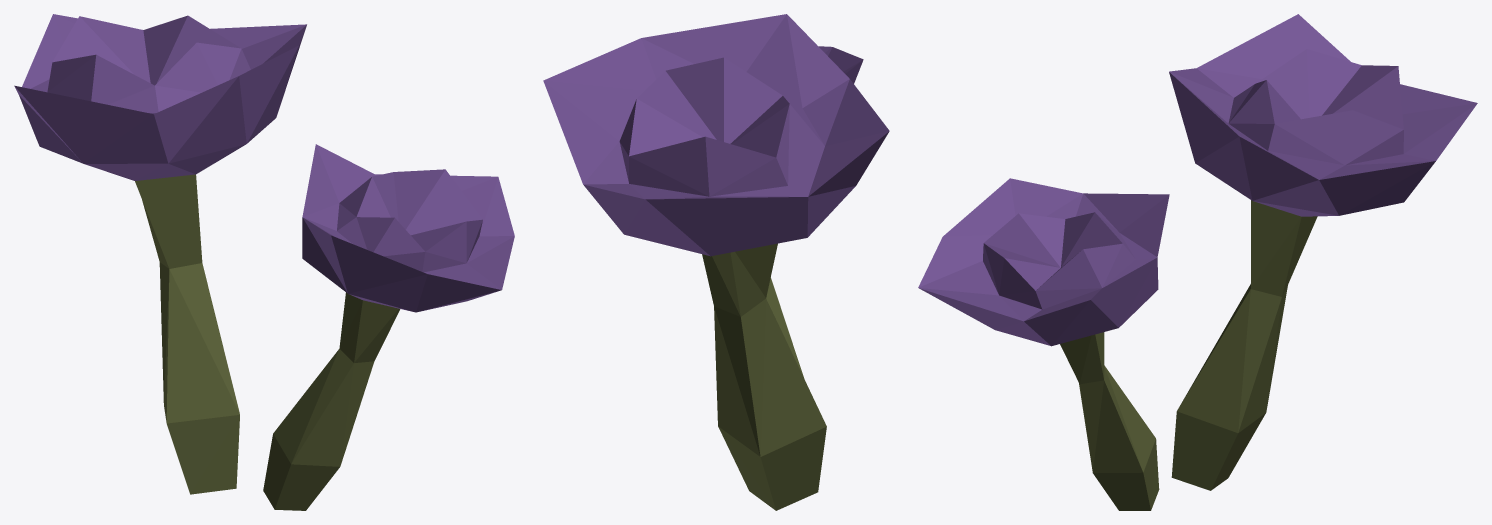
File: SM_Env_Flower_06.glb
3 renders of one model, left to right at view 1: azimuth 30°, elevation 25°; view 2: azimuth 150°, elevation 25°; view 3: azimuth 270°, elevation 25°, orthographic. The views are drawn at different scales.
Parts seen in each view (by area): view 1: SM_Env_Flower_06; view 2: SM_Env_Flower_06; view 3: SM_Env_Flower_06.
Boxes of the visible parts, left/top/right/bottom form: SM_Env_Flower_06: left=14, top=14, right=514, bottom=510; SM_Env_Flower_06: left=543, top=14, right=889, bottom=510; SM_Env_Flower_06: left=918, top=14, right=1477, bottom=510.
Size of the model in its own units: 3 by 3.23 by 3.9.
Materials: 1 (1 with a texture image).
